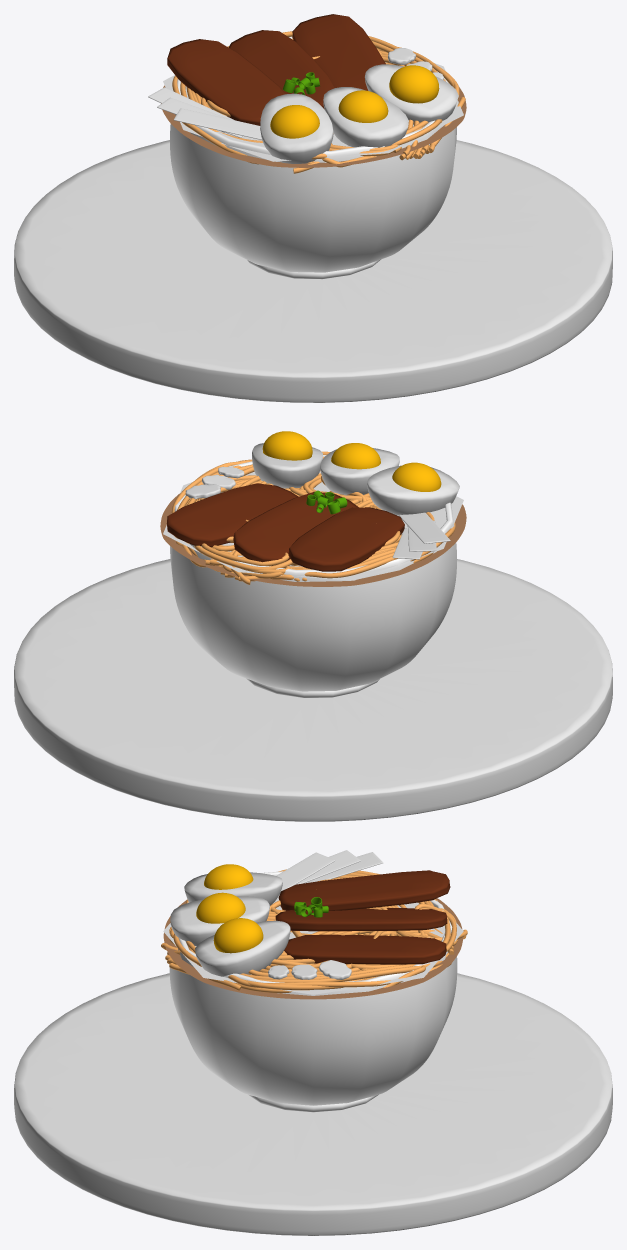
Rendered from DishNfood 5.fbx.
3 views of the same model, one above another, from view 1: azimuth 30°, elevation 25°; view 2: azimuth 150°, elevation 25°; view 3: azimuth 270°, elevation 25° (orthographic).
Visible parts, largest first — view 1: wood slab, bowl, beef_b, beef, beef_a, egg_a, egg_c, noodle_a, egg_b, soup, egg yolk_b, egg yolk_a (+5 smaller); view 2: wood slab, bowl, beef_b, beef, beef_a, noodle, egg_a, noodle_a, soup, egg_b, egg_c, soup_a (+4 smaller); view 3: wood slab, bowl, beef_b, beef, noodle_a, beef_a, noodle, egg_b, soup, egg_c, egg_a, egg yolk_b (+6 smaller).
Part boxes in pixels (x1,y1,x2,y2): wood slab: (14,140,612,402); bowl: (170,36,456,279); beef_b: (167,39,285,125); beef: (292,14,385,90); beef_a: (229,30,334,108); egg_a: (260,93,333,163); egg_c: (323,87,408,147); noodle_a: (182,36,465,173); egg_b: (364,64,458,124); soup: (161,85,466,167); egg yolk_b: (389,65,439,103); egg yolk_a: (270,105,319,138); wood slab: (14,559,612,821); bowl: (170,455,456,697); beef_b: (288,507,404,571); beef: (166,483,298,547); beef_a: (233,491,358,565); noodle: (174,461,400,581); egg_a: (367,465,459,515); noodle_a: (171,451,455,584); soup: (160,493,466,586); egg_b: (252,443,322,488); egg_c: (320,448,399,495); soup_a: (163,471,463,580); wood slab: (14,973,612,1235); bowl: (169,871,457,1112); beef_b: (278,870,450,910); beef: (284,934,446,964); noodle_a: (161,869,467,990); beef_a: (275,908,447,931); noodle: (234,870,466,993); egg_b: (195,920,290,976); soup: (163,898,463,999); egg_c: (170,896,269,946); egg_a: (184,872,282,905); egg yolk_b: (213,918,263,953).
Bounding box in the file's own units: 43.38 × 17.61 × 43.38.
